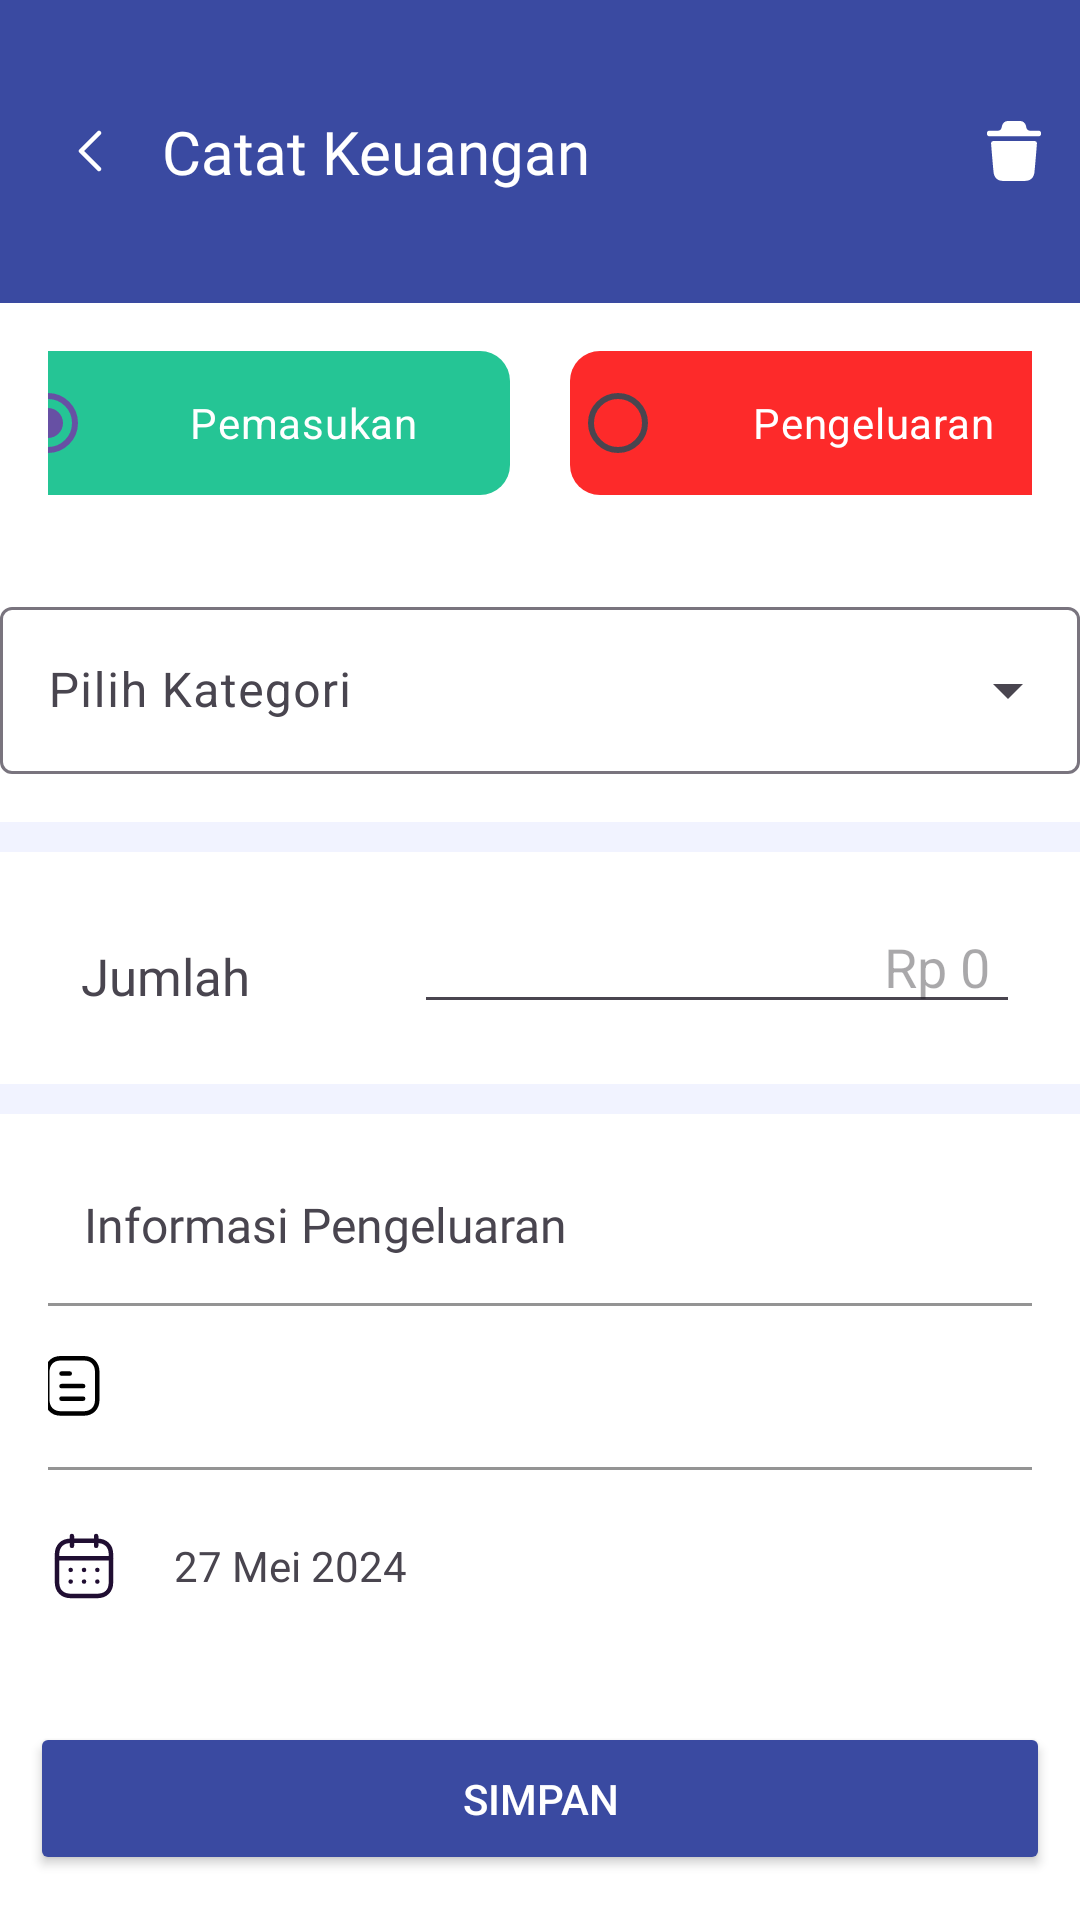

Named icons in this screenshot (1080x1920) and their centers, point (x, y):
calendar: point (84, 1566)
delete: point (1014, 151)
left: point (90, 151)
